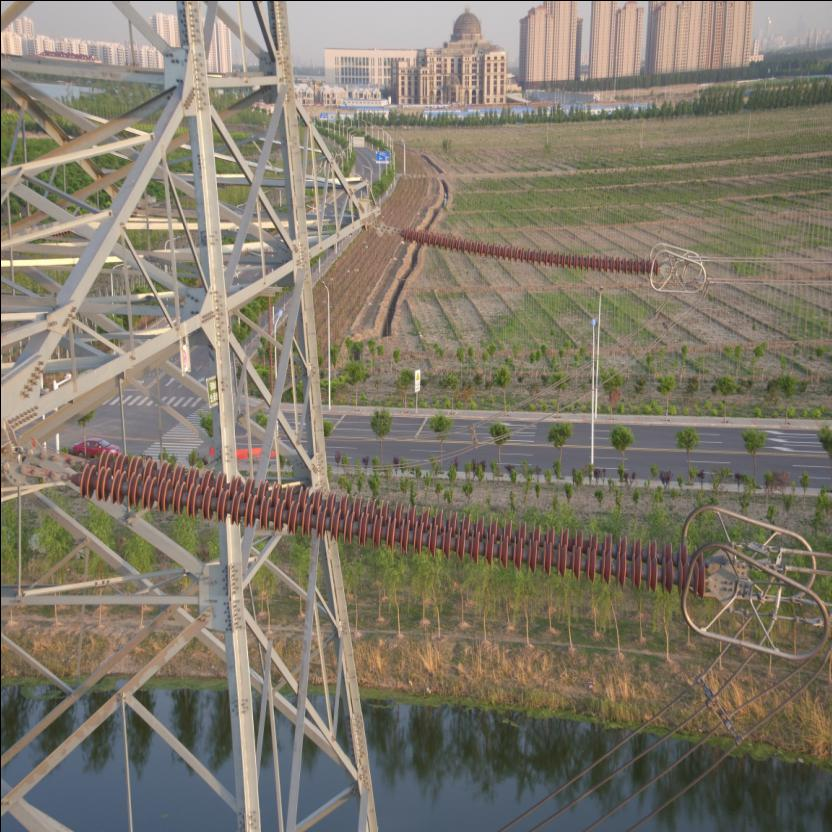insulator: (47, 441, 717, 600), (384, 226, 664, 276)
